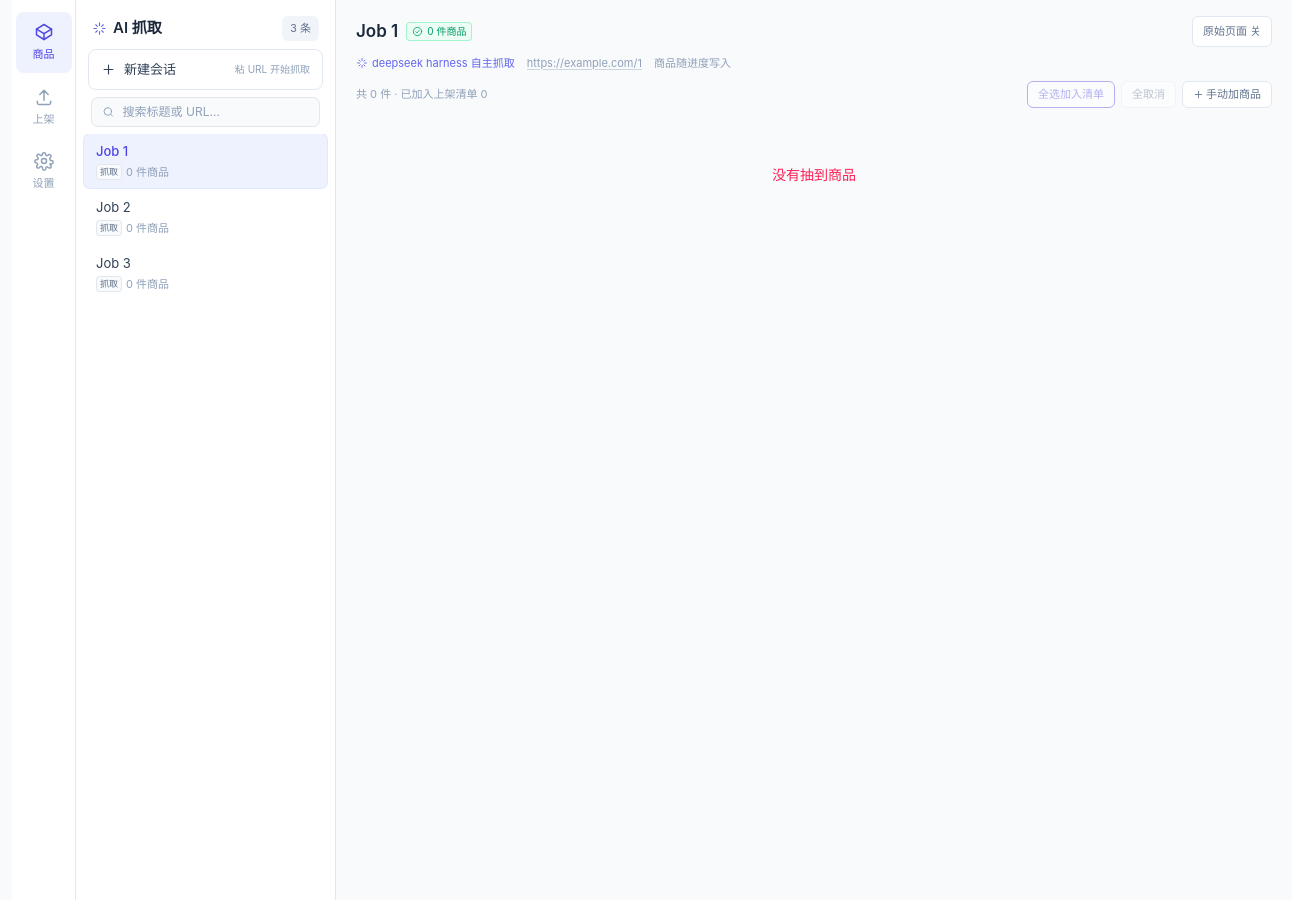
Test: successful manual add does not depend on a second GET or invite duplicate retries
Check: the heading "Job 1" is shown, box x1=356 y1=18 x2=398 y2=44
Click the button "手动加商品": (1227, 94) x1=1182 y1=81 x2=1272 y2=108
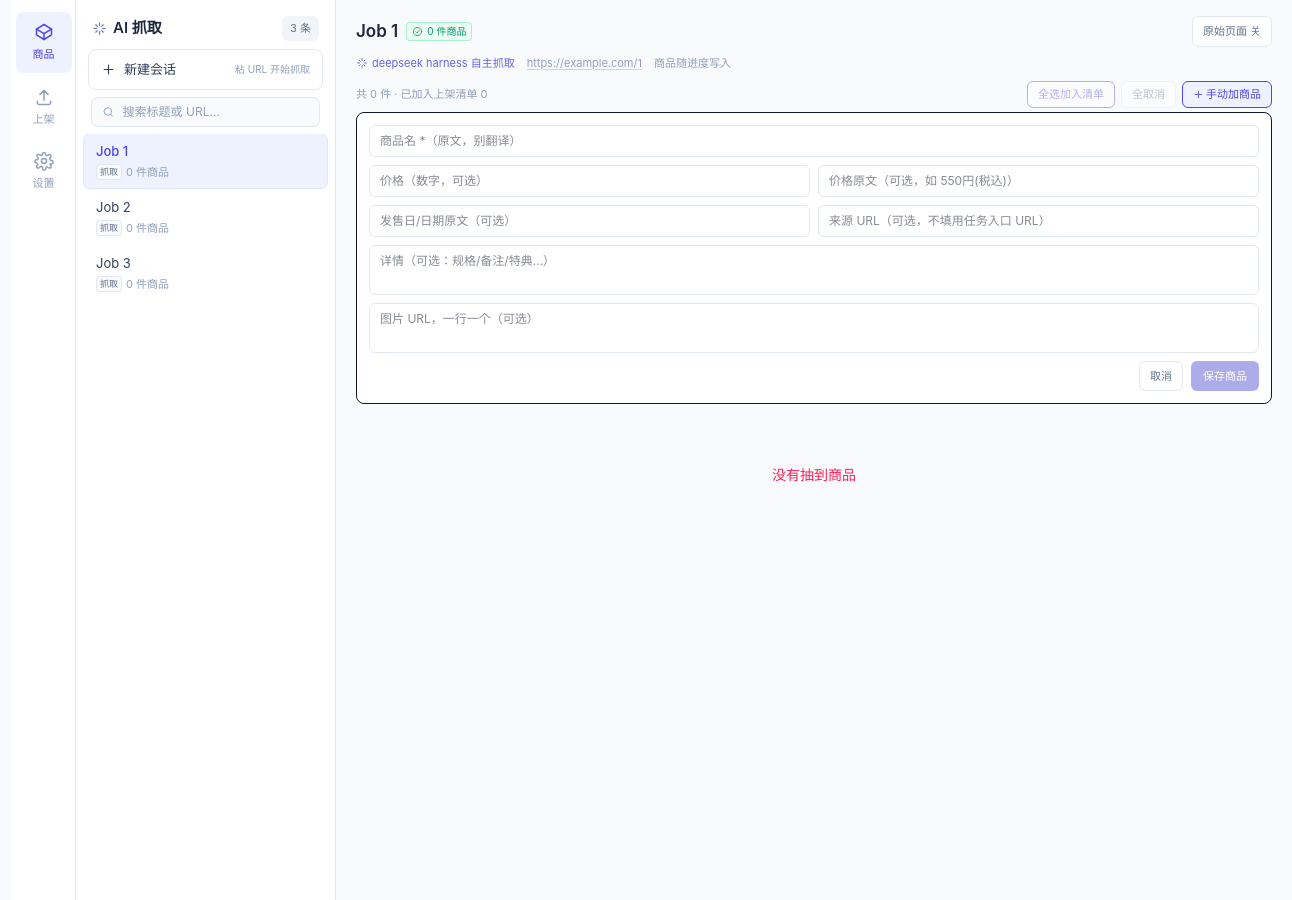
In the field with placeholder "商品名 *（原文，别翻译）": (814, 140) x1=369 y1=124 x2=1259 y2=156, type "manual A"
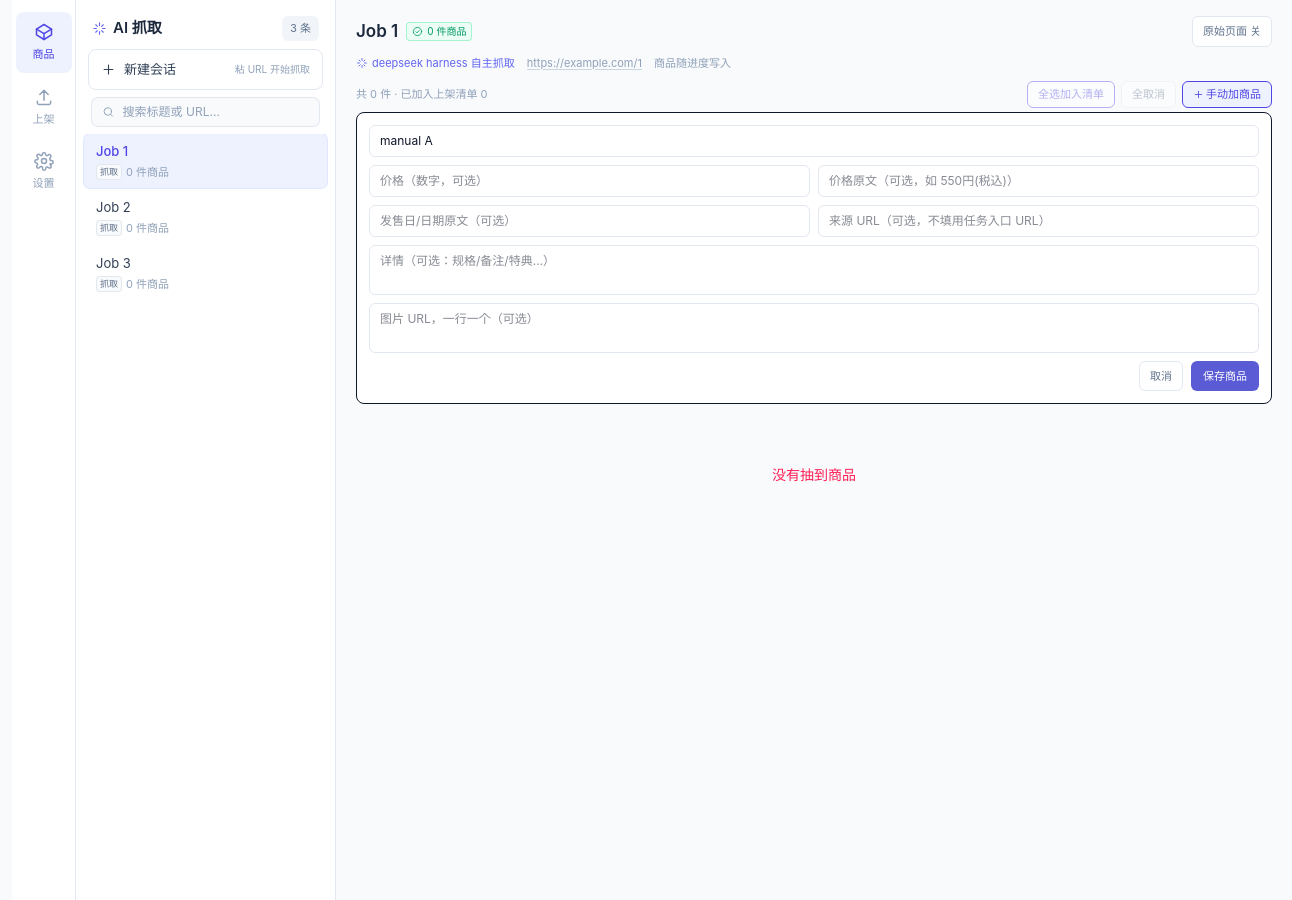
Click the button "保存商品": (1225, 376) x1=1191 y1=360 x2=1259 y2=391
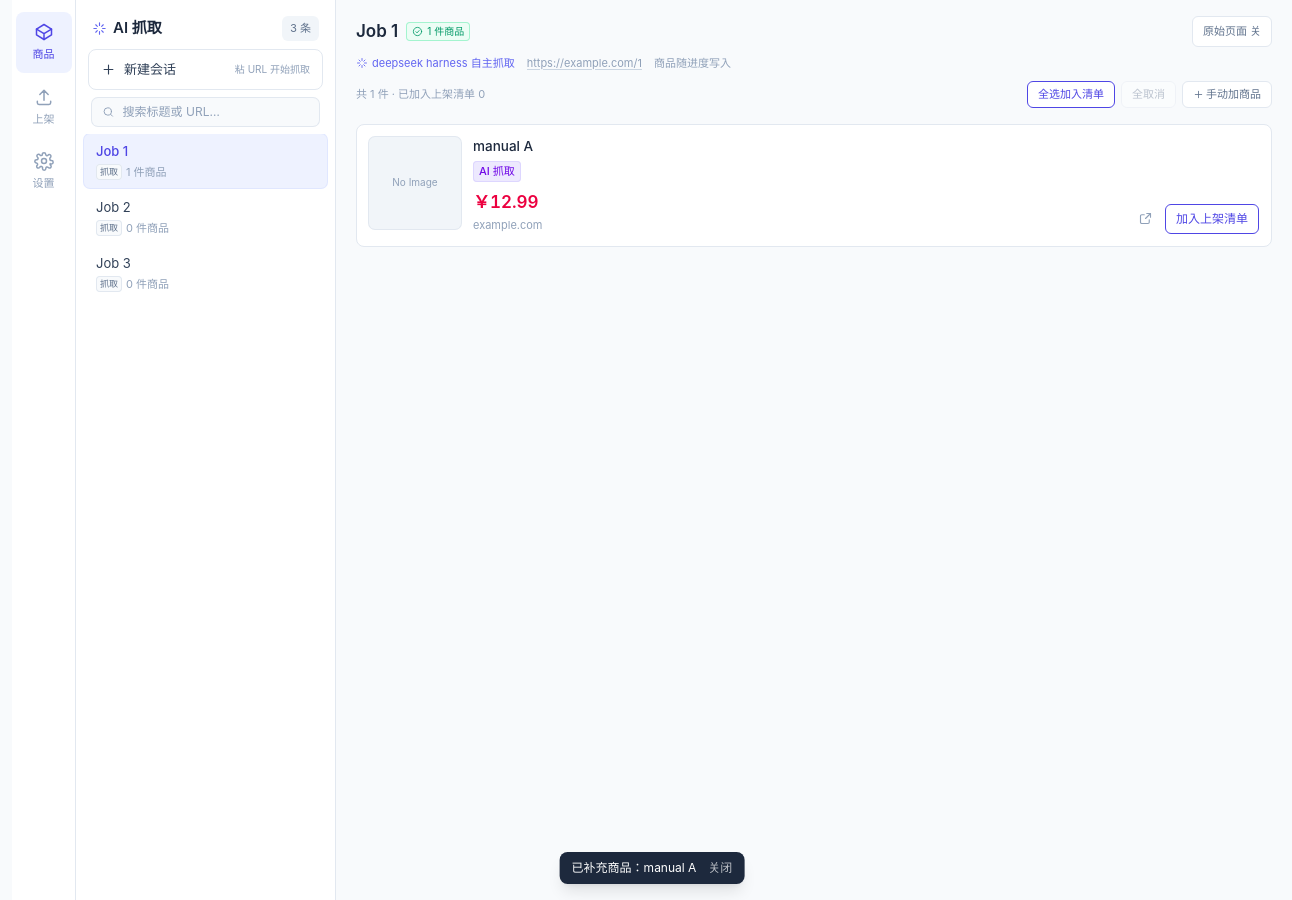
Check: the button "保存商品" is gone
Check: the heading "manual A" is shown, box x1=473 y1=138 x2=533 y2=154
